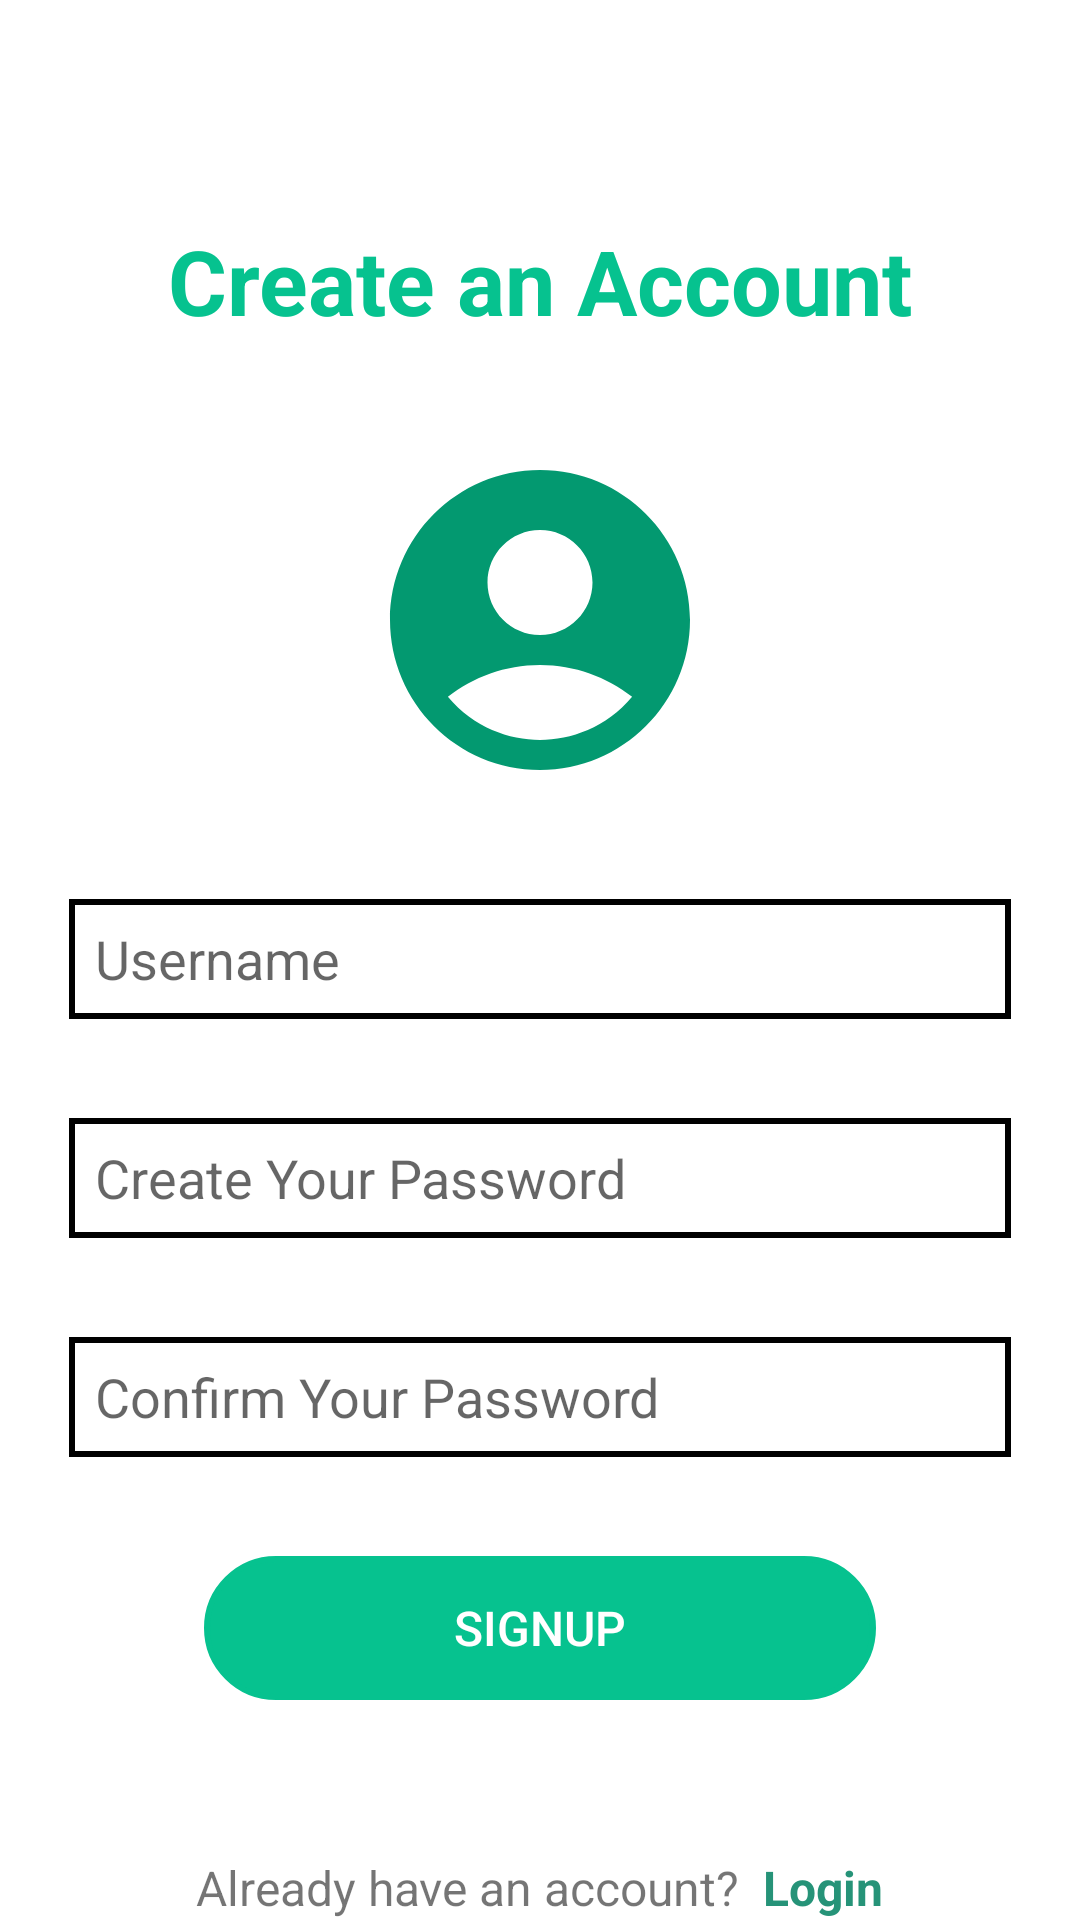

Where icons sit on this 1080px x 1920px app screen, as (x1, y1, x2, y2):
account circle: (390, 470, 690, 770)
